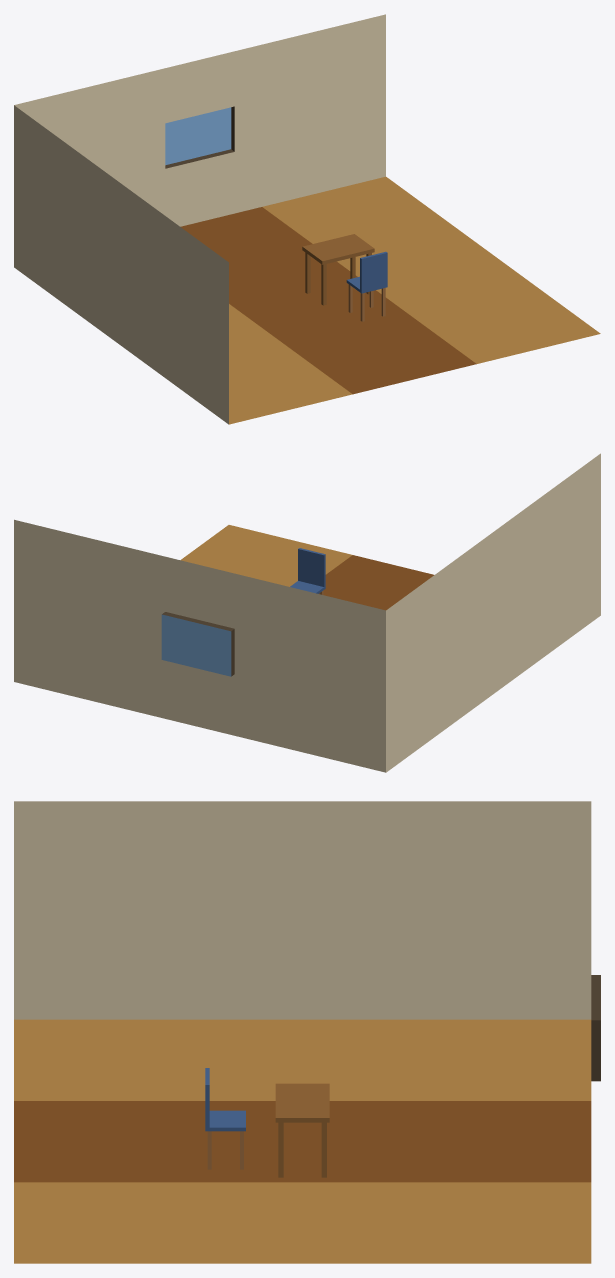
The model's file is room.obj.
The picture shows the model from 3 angles, top to bottom: view 1: azimuth 30°, elevation 25°; view 2: azimuth 150°, elevation 25°; view 3: azimuth 270°, elevation 25°; orthographic projection. The views are drawn at different scales.
Visible parts, largest first — view 1: Room; view 2: Room; view 3: Room.
Part boxes in pixels (x1,y1,x2,y2): Room: (14, 14, 600, 424); Room: (14, 453, 600, 772); Room: (14, 801, 600, 1263).
Bounding box in the file's own units: 60 × 25 × 61.
